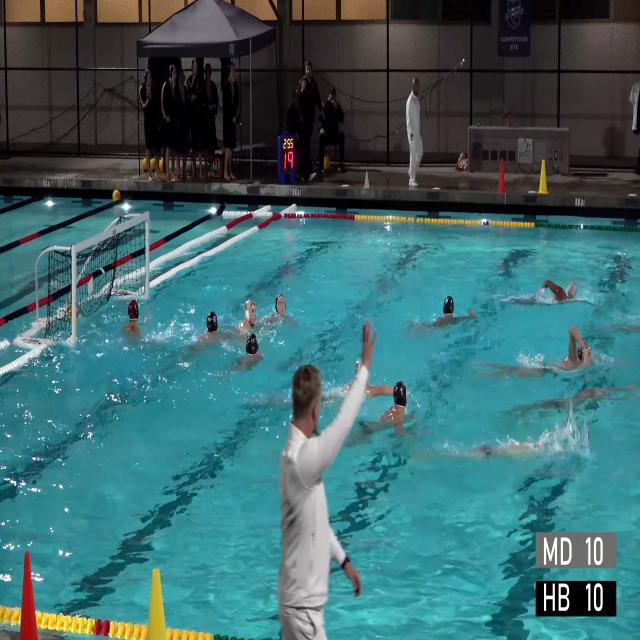ball: (69, 304, 79, 320), (112, 190, 120, 202), (142, 158, 148, 172), (150, 158, 156, 172), (160, 158, 163, 172)
